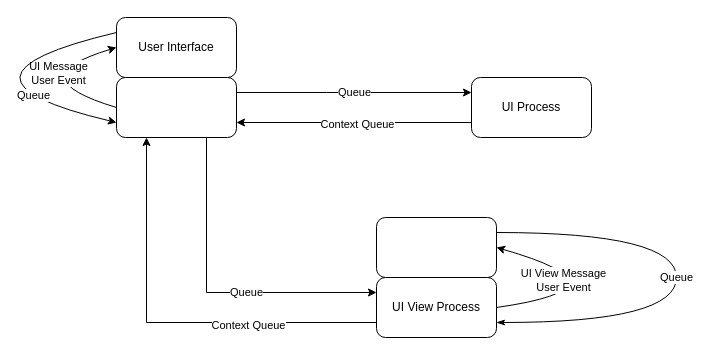
Some shapes in this 711 by 355 pixel diagram are drawn without their labels. The box of each missing label's shape, as (x1, y1, x2, y2) in pixels:
UI View: (376, 216, 496, 278)
User Interface Process: (116, 76, 236, 138)
